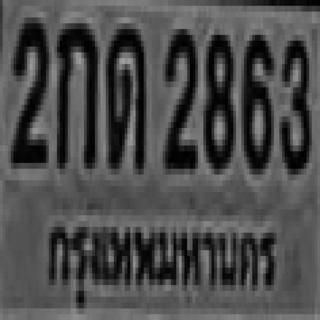A01: (54, 18, 95, 163)
A20: (106, 20, 144, 166)
N02: (8, 12, 46, 163), (163, 23, 195, 163)
N03: (278, 35, 308, 169)
N06: (241, 29, 271, 169)
N08: (202, 29, 232, 169)
P04: (43, 210, 284, 306)
